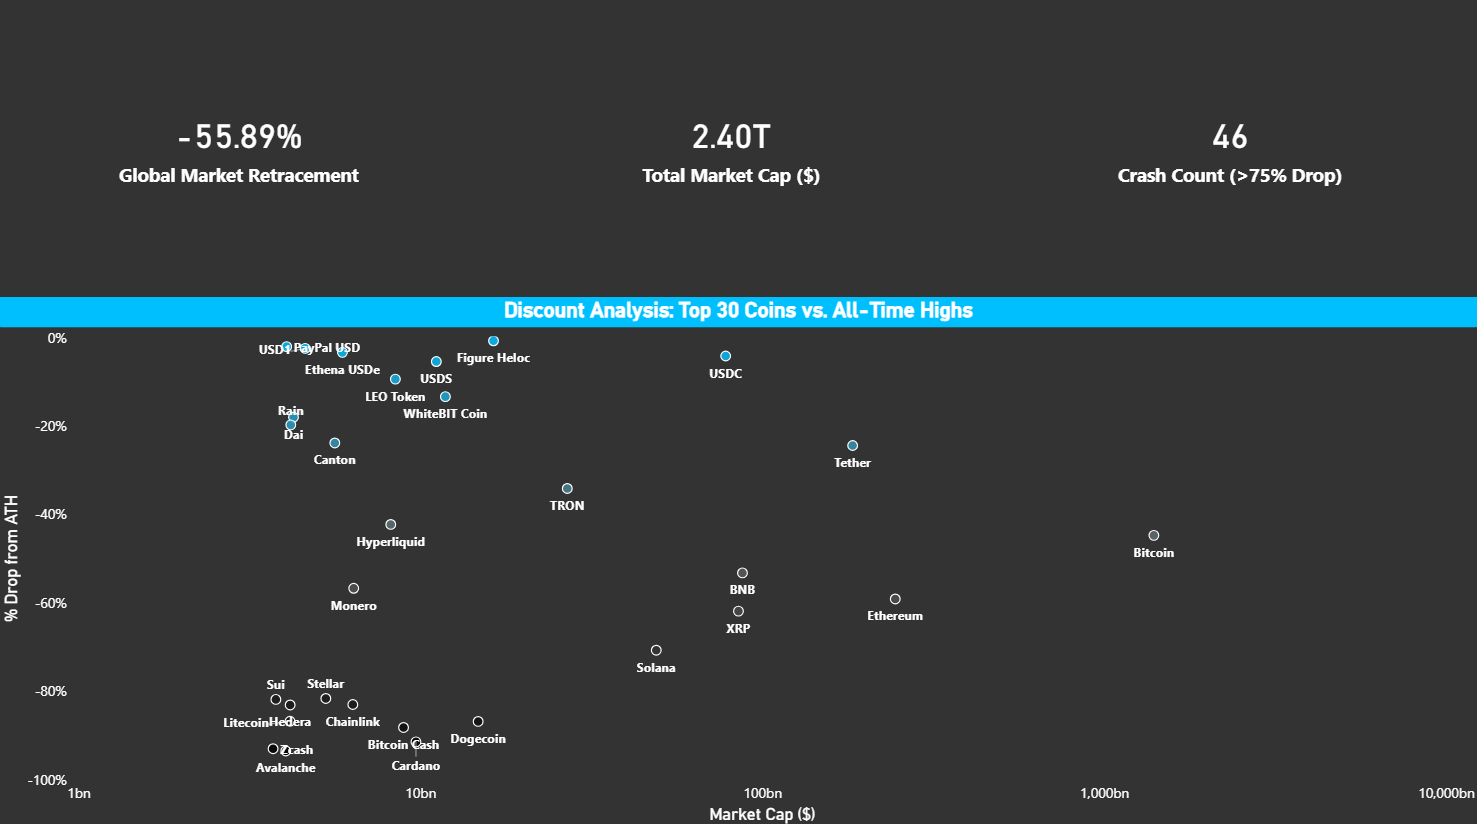

The dashboard page shown, as its layout file describes it:
{"tool":"powerbi","page":{"name":"Page 1","canvas":[1280,720],"ordinal":0},"visuals":[{"type":"scatterChart","title":"Discount Analysis: Top 30 Coins vs. All-Time Highs","fields":{"X":["Avg(markets?vs_currency=usd&order=market_cap_desc&per_page=100&page=1.market_cap)"],"Category":["markets?vs_currency=usd&order=market_cap_desc&per_page=100&page=1.name"],"Y":["Avg(markets?vs_currency=usd&order=market_cap_desc&per_page=100&page=1.ath_change_pctgreal)"],"Size":["select"]},"box":[0,260.8,1280.3,459.1],"z":0},{"type":"card","fields":{"Values":["Avg(markets?vs_currency=usd&order=market_cap_desc&per_page=100&page=1.ath_change_pctgreal)"]},"box":[0,0,418.9,260.8],"z":1000},{"type":"card","fields":{"Values":["Sum(markets?vs_currency=usd&order=market_cap_desc&per_page=100&page=1.market_cap)"]},"box":[418.9,0,430,260.8],"z":2000},{"type":"card","fields":{"Values":["Count(markets?vs_currency=usd&order=market_cap_desc&per_page=100&page=1.name)"]},"box":[848.9,0,431.4,260.8],"z":4000}]}

Visuals, with their boxes in screenshot pixels (x1, y1, x2, y2), scaled from the page's 1280x720 canvas onto the 1477x824 screenshot:
"Discount Analysis: Top 30 Coins vs. All-Time Highs" scatterChart: pyautogui.locateOnScreen(0, 298, 1476, 823)
card - Avg(markets?vs_currency=usd&order=market_cap_desc&per_page=100&page=1.ath_change_pctgreal): pyautogui.locateOnScreen(0, 0, 483, 298)
card - Sum(markets?vs_currency=usd&order=market_cap_desc&per_page=100&page=1.market_cap): pyautogui.locateOnScreen(483, 0, 980, 298)
card - Count(markets?vs_currency=usd&order=market_cap_desc&per_page=100&page=1.name): pyautogui.locateOnScreen(980, 0, 1476, 298)
